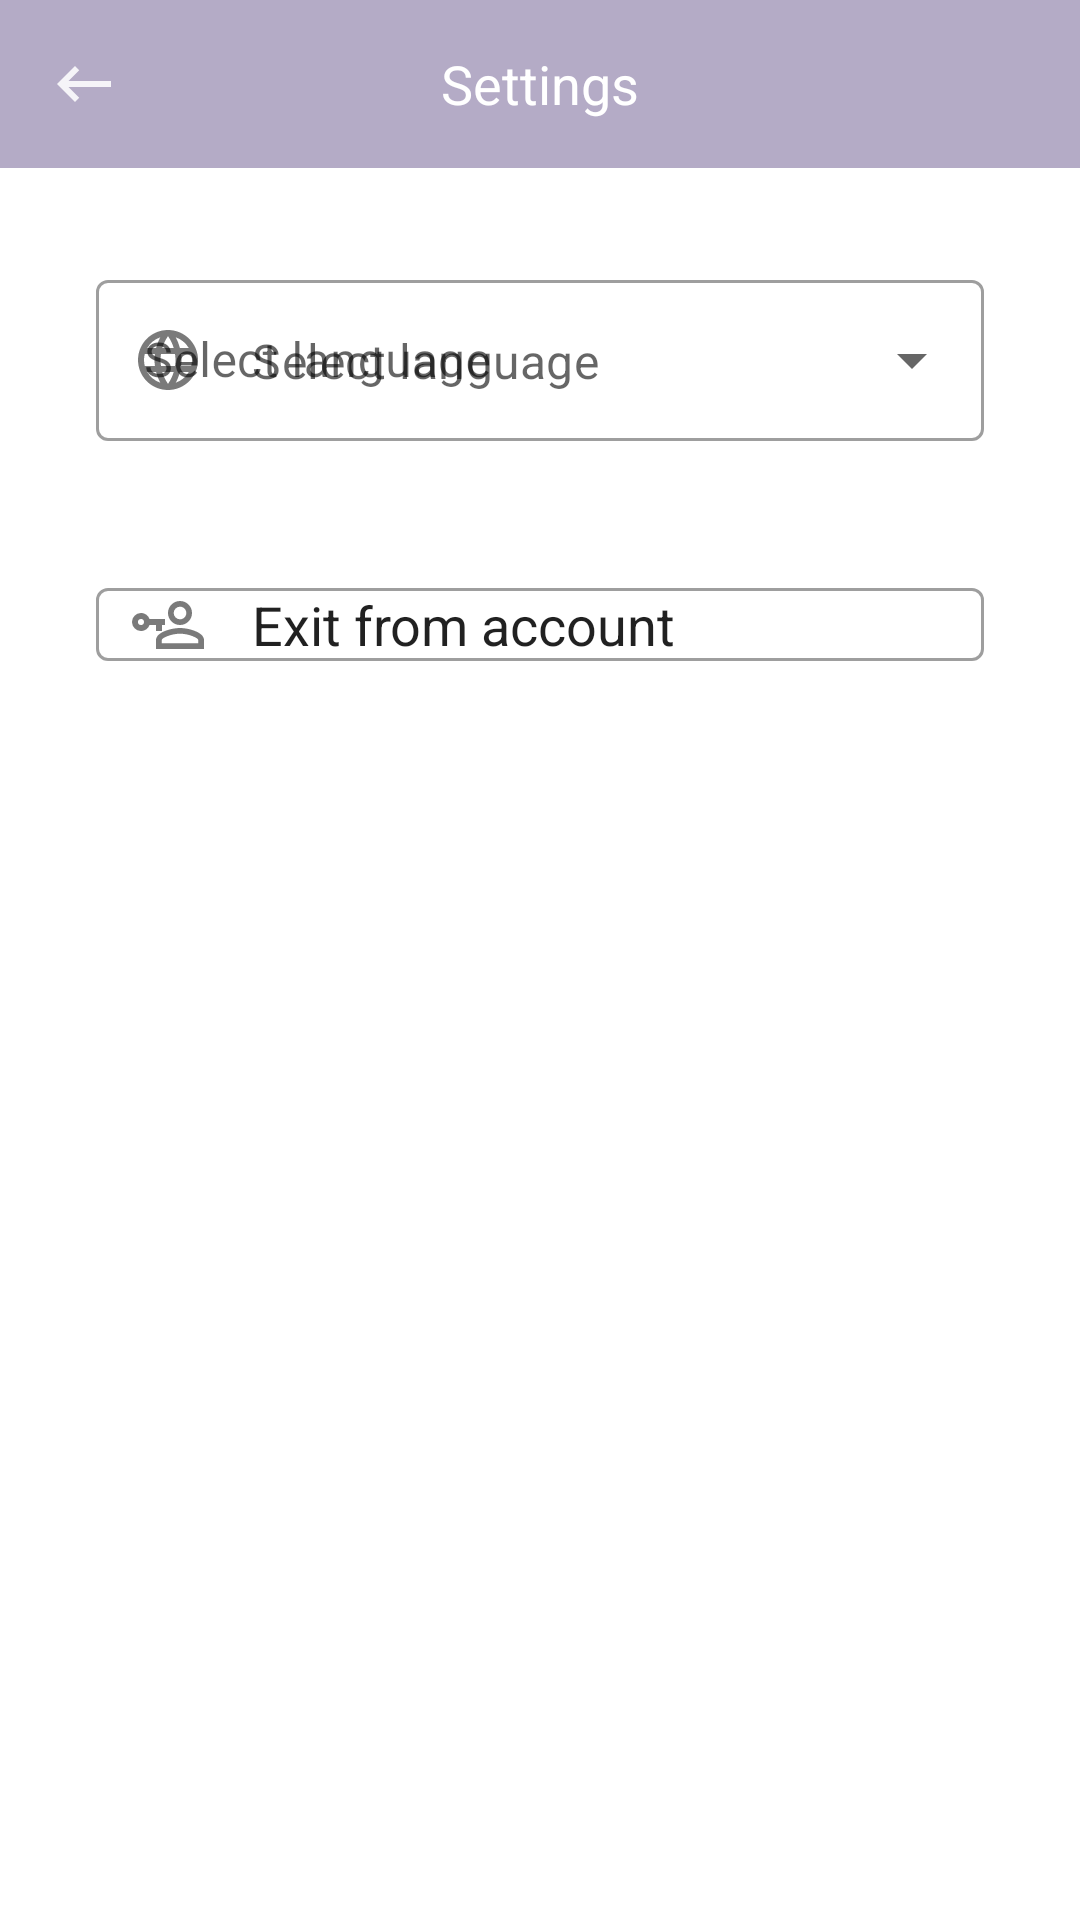

Named icons in this screenshot (1080x1920) and their bounding boxes, (x1, y1, x2, y2):
keyboard backspace: (57, 66, 111, 102)
